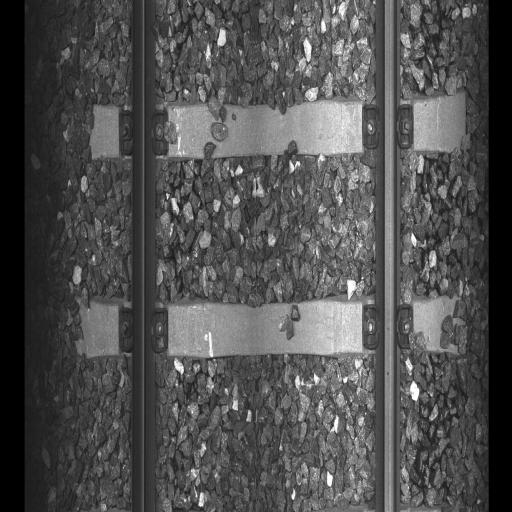sleeper: (75, 296, 465, 362), (75, 98, 465, 160)
